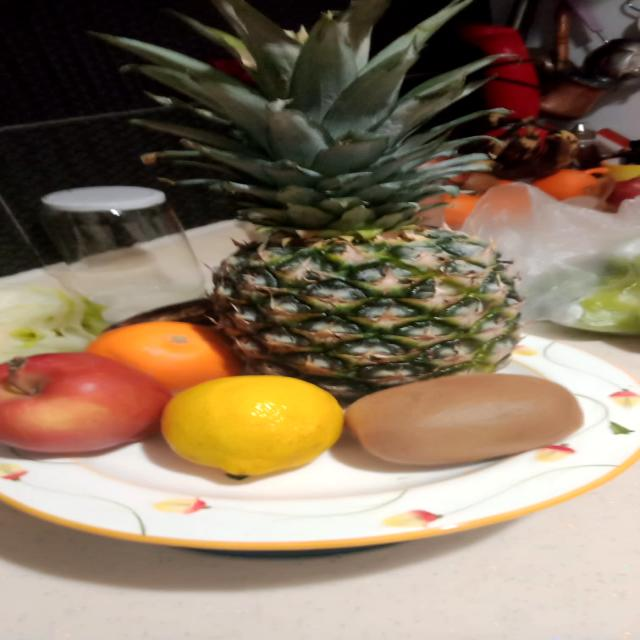lemon: (129, 372, 364, 488)
